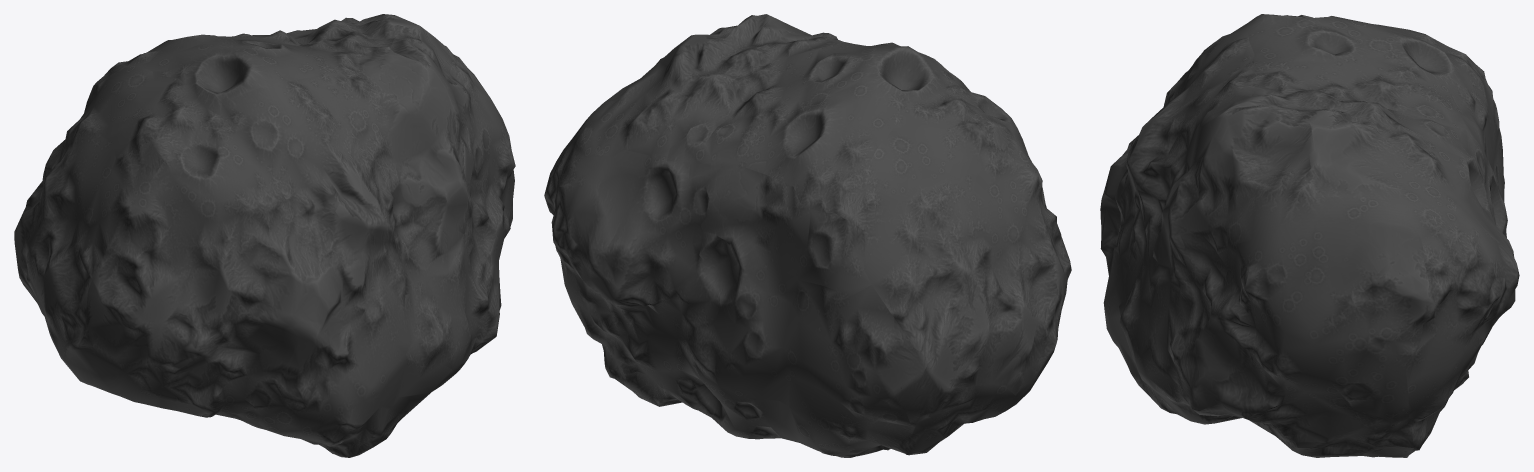
The model's file is 2_ast.glb.
3 renders of one model, left to right at view 1: azimuth 30°, elevation 25°; view 2: azimuth 150°, elevation 25°; view 3: azimuth 270°, elevation 25°, orthographic.
Visible parts, largest first — view 1: SM_AsteroidBarren_7; view 2: SM_AsteroidBarren_7; view 3: SM_AsteroidBarren_7.
Part boxes in pixels (left/top/right/bottom): SM_AsteroidBarren_7: left=14, top=14, right=515, bottom=457; SM_AsteroidBarren_7: left=544, top=14, right=1071, bottom=457; SM_AsteroidBarren_7: left=1100, top=14, right=1519, bottom=457.
Bounding box in the file's own units: 92.59 × 72.09 × 74.04.
Materials: 1 (1 with a texture image).
